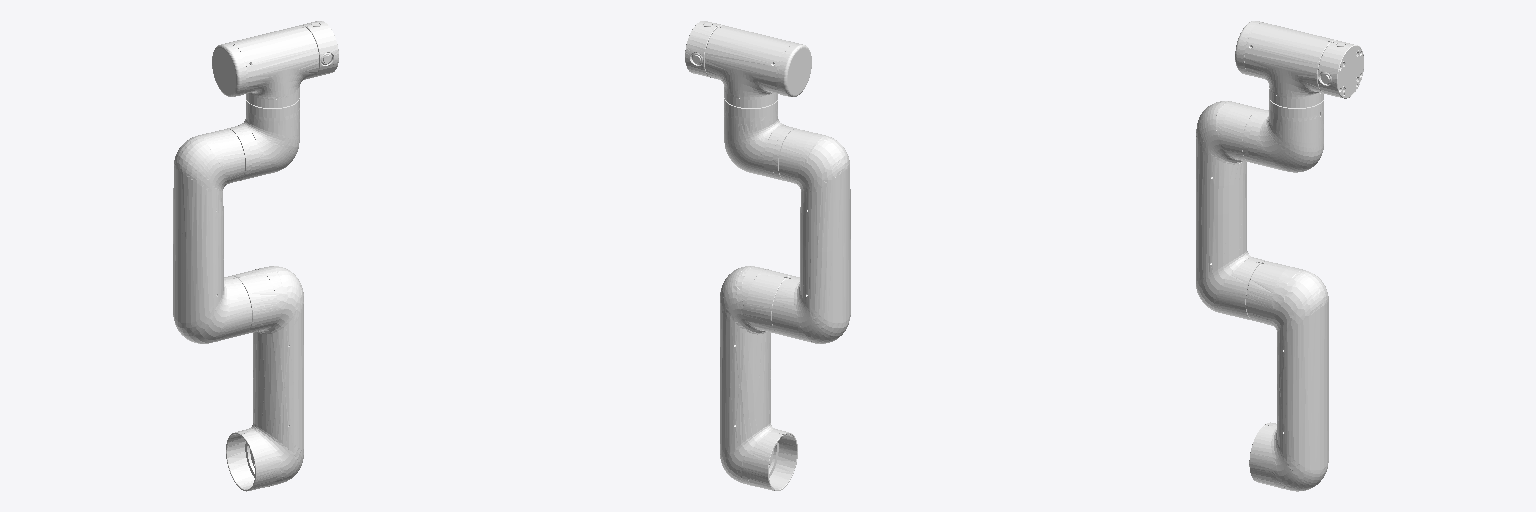
robot.urdf — Pro 450 V2.0:
<?xml version="2.0" encoding="utf-8"?>
<!-- This URDF was automatically created by SolidWorks to URDF Exporter! Originally created by Stephen Brawner (brawner@gmail.com) 
     Commit Version: 1.6.0-4-g7f85cfe  Build Version: 1.6.7995.38578
     For more information, please see http://wiki.ros.org/sw_urdf_exporter -->
<robot
  name="Pro 450 V2.0">
  <link
    name="base">
    <inertial>
      <origin
        xyz="-0.0036904 0.097443 0.055724"
        rpy="0 0 0" />
      <mass
        value="2.0564" />
      <inertia
        ixx="0.0028485"
        ixy="-1.3454E-06"
        ixz="4.5385E-07"
        iyy="0.0031143"
        iyz="0.00022756"
        izz="0.0032565" />
    </inertial>
    <visual>
      <origin
        xyz="0 0 0"
        rpy="0 0 0" />
      <geometry>
        <mesh
          filename="package://mycobot_description/urdf/mycobot_pro_450/new_structure/meshes/base.STL" />
      </geometry>
      <material
        name="">
        <color
          rgba="1 1 1 1" />
      </material>
    </visual>
    <collision>
      <origin
        xyz="0 0 0"
        rpy="0 0 0" />
      <geometry>
        <mesh
          filename="package://mycobot_description/urdf/mycobot_pro_450/new_structure/meshes/base.STL" />
      </geometry>
    </collision>
  </link>
  <link
    name="Link1">
    <inertial>
      <origin
        xyz="0.021848 0.00027981 0.03412"
        rpy="0 0 0" />
      <mass
        value="0.5339" />
      <inertia
        ixx="0.00034289"
        ixy="2.2285E-07"
        ixz="-1.4748E-05"
        iyy="0.00032952"
        iyz="7.495E-07"
        izz="0.00031829" />
    </inertial>
    <visual>
      <origin
        xyz="0 0 0"
        rpy="0 0 0" />
      <geometry>
        <mesh
          filename="package://mycobot_description/urdf/mycobot_pro_450/new_structure/meshes/Link1.STL" />
      </geometry>
      <material
        name="">
        <color
          rgba="1 1 1 1" />
      </material>
    </visual>
    <collision>
      <origin
        xyz="0 0 0"
        rpy="0 0 0" />
      <geometry>
        <mesh
          filename="package://mycobot_description/urdf/mycobot_pro_450/new_structure/meshes/Link1.STL" />
      </geometry>
    </collision>
  </link>
  <joint
    name="joint1"
    type="revolute">
    <origin
      xyz="-0.0036527 0.10961 0.16511"
      rpy="0 0 0" />
    <parent
      link="base" />
    <child
      link="Link1" />
    <axis
      xyz="0 0 1" />
    <limit
      lower="-2.8274"
      upper="2.8274"
      effort="10"
      velocity="3.7909" />
  </joint>
  <link
    name="Link2">
    <inertial>
      <origin
        xyz="4.5135E-05 -0.0047979 0.1192"
        rpy="0 0 0" />
      <mass
        value="0.59984" />
      <inertia
        ixx="0.0021268"
        ixy="2.8075E-08"
        ixz="6.0014E-07"
        iyy="0.0022006"
        iyz="-6.3635E-05"
        izz="0.00029236" />
    </inertial>
    <visual>
      <origin
        xyz="0 0 0"
        rpy="0 0 0" />
      <geometry>
        <mesh
          filename="package://mycobot_description/urdf/mycobot_pro_450/new_structure/meshes/Link2.STL" />
      </geometry>
      <material
        name="">
        <color
          rgba="1 1 1 1" />
      </material>
    </visual>
    <collision>
      <origin
        xyz="0 0 0"
        rpy="0 0 0" />
      <geometry>
        <mesh
          filename="package://mycobot_description/urdf/mycobot_pro_450/new_structure/meshes/Link2.STL" />
      </geometry>
    </collision>
  </link>
  <joint
    name="joint2"
    type="revolute">
    <origin
      xyz="0.072556 -0.00013563 0.0376"
      rpy="0 0 1.5708" />
    <parent
      link="Link1" />
    <child
      link="Link2" />
    <axis
      xyz="0 -1 0" />
    <limit
      lower="-2.1817"
      upper="2.1817"
      effort="10"
      velocity="3.7909" />
  </joint>
  <link
    name="Link3">
    <inertial>
      <origin
        xyz="-8.7658E-05 0.018508 0.12639"
        rpy="0 0 0" />
      <mass
        value="0.67777" />
      <inertia
        ixx="0.0017114"
        ixy="1.4988E-07"
        ixz="1.617E-07"
        iyy="0.0017559"
        iyz="-2.7383E-05"
        izz="0.00025355" />
    </inertial>
    <visual>
      <origin
        xyz="0 0 0"
        rpy="0 0 0" />
      <geometry>
        <mesh
          filename="package://mycobot_description/urdf/mycobot_pro_450/new_structure/meshes/Link3.STL" />
      </geometry>
      <material
        name="">
        <color
          rgba="1 1 1 1" />
      </material>
    </visual>
    <collision>
      <origin
        xyz="0 0 0"
        rpy="0 0 0" />
      <geometry>
        <mesh
          filename="package://mycobot_description/urdf/mycobot_pro_450/new_structure/meshes/Link3.STL" />
      </geometry>
    </collision>
  </link>
  <joint
    name="joint3"
    type="revolute">
    <origin
      xyz="0 0.0391 0.18"
      rpy="0 0 0" />
    <parent
      link="Link2" />
    <child
      link="Link3" />
    <axis
      xyz="0 -1 0" />
    <limit
      lower="-2.6878"
      upper="2.6878"
      effort="8"
      velocity="3.11" />
  </joint>
  <link
    name="Link4">
    <inertial>
      <origin
        xyz="5.5308E-06 -0.019977 0.024336"
        rpy="0 0 0" />
      <mass
        value="0.55433" />
      <inertia
        ixx="0.00024787"
        ixy="-5.8392E-07"
        ixz="3.4795E-07"
        iyy="0.00024423"
        iyz="1.5884E-05"
        izz="0.000191" />
    </inertial>
    <visual>
      <origin
        xyz="0 0 0"
        rpy="0 0 0" />
      <geometry>
        <mesh
          filename="package://mycobot_description/urdf/mycobot_pro_450/new_structure/meshes/Link4.STL" />
      </geometry>
      <material
        name="">
        <color
          rgba="1 1 1 1" />
      </material>
    </visual>
    <collision>
      <origin
        xyz="0 0 0"
        rpy="0 0 0" />
      <geometry>
        <mesh
          filename="package://mycobot_description/urdf/mycobot_pro_450/new_structure/meshes/Link4.STL" />
      </geometry>
    </collision>
  </link>
  <joint
    name="joint4"
    type="revolute">
    <origin
      xyz="0 -0.027001 0.173"
      rpy="0 0 0" />
    <parent
      link="Link3" />
    <child
      link="Link4" />
    <axis
      xyz="0 -1 0" />
    <limit
      lower="-2.8274"
      upper="2.8274"
      effort="2"
      velocity="3.11" />
  </joint>
  <link
    name="Link5">
    <inertial>
      <origin
        xyz="-0.0082575 -4.4224E-05 0.023446"
        rpy="0 0 0" />
      <mass
        value="0.54975" />
      <inertia
        ixx="0.00019151"
        ixy="-2.7503E-07"
        ixz="2.3435E-06"
        iyy="0.00022691"
        iyz="1.3389E-07"
        izz="0.00023006" />
    </inertial>
    <visual>
      <origin
        xyz="0 0 0"
        rpy="0 0 0" />
      <geometry>
        <mesh
          filename="package://mycobot_description/urdf/mycobot_pro_450/new_structure/meshes/Link5.STL" />
      </geometry>
      <material
        name="">
        <color
          rgba="1 1 1 1" />
      </material>
    </visual>
    <collision>
      <origin
        xyz="0 0 0"
        rpy="0 0 0" />
      <geometry>
        <mesh
          filename="package://mycobot_description/urdf/mycobot_pro_450/new_structure/meshes/Link5.STL" />
      </geometry>
    </collision>
  </link>
  <joint
    name="joint5"
    type="revolute">
    <origin
      xyz="-1.3818E-05 -0.025698 0.070501"
      rpy="0 0 -1.5708" />
    <parent
      link="Link4" />
    <child
      link="Link5" />
    <axis
      xyz="0 0 1" />
    <limit
      lower="-2.8274"
      upper="2.8274"
      effort="2"
      velocity="3.11" />
  </joint>
  <link
    name="Link6">
    <inertial>
      <origin
        xyz="0.018433 0.000554 0.00086645"
        rpy="0 0 0" />
      <mass
        value="0.10712" />
      <inertia
        ixx="4.3725E-05"
        ixy="-4.7899E-09"
        ixz="1.3552E-07"
        iyy="2.6538E-05"
        iyz="3.2282E-09"
        izz="2.7187E-05" />
    </inertial>
    <visual>
      <origin
        xyz="0 0 0"
        rpy="0 0 0" />
      <geometry>
        <mesh
          filename="package://mycobot_description/urdf/mycobot_pro_450/new_structure/meshes/Link6.STL" />
      </geometry>
      <material
        name="">
        <color
          rgba="1 1 1 1" />
      </material>
    </visual>
    <collision>
      <origin
        xyz="0 0 0"
        rpy="0 0 0" />
      <geometry>
        <mesh
          filename="package://mycobot_description/urdf/mycobot_pro_450/new_structure/meshes/Link6.STL" />
      </geometry>
    </collision>
  </link>
  <joint
    name="joint6"
    type="revolute">
    <origin
      xyz="0.031115 -0.00055633 0.026584"
      rpy="0 0 0" />
    <parent
      link="Link5" />
    <child
      link="Link6" />
    <axis
      xyz="1 0 0" />
    <limit
      lower="-2.8798"
      upper="2.8798"
      effort="2"
      velocity="3.11" />
  </joint>
</robot>

--- Render facts (derived) ---
3 views of the same robot in one strip: view 1: azimuth 30°, elevation 25°; view 2: azimuth 150°, elevation 25°; view 3: azimuth 330°, elevation 25° (orthographic).
Robot: Pro 450 V2.0 — 7 links, 6 joints (6 revolute); root link base; default pose: every joint at zero.
Visible links, largest first — view 1: Link3, Link2, Link5, Link4, Link6; view 2: Link3, Link2, Link5, Link4, Link6; view 3: Link2, Link3, Link5, Link4, Link6.
Boxes of the visible links, left/top/right/bottom form: Link3: left=173, top=129, right=251, bottom=343; Link2: left=226, top=266, right=303, bottom=491; Link5: left=212, top=25, right=318, bottom=107; Link4: left=227, top=98, right=299, bottom=180; Link6: left=303, top=21, right=338, bottom=77; Link3: left=772, top=129, right=850, bottom=343; Link2: left=720, top=266, right=797, bottom=490; Link5: left=705, top=25, right=811, bottom=107; Link4: left=724, top=98, right=796, bottom=180; Link6: left=685, top=21, right=721, bottom=77; Link2: left=1246, top=261, right=1328, bottom=491; Link3: left=1196, top=101, right=1264, bottom=320; Link5: left=1235, top=21, right=1335, bottom=107; Link4: left=1242, top=98, right=1323, bottom=172; Link6: left=1318, top=40, right=1363, bottom=98.
Size in the robot's own frame: 0.177 by 0.063 by 0.5102 metres.
Meshes: 7 distinct files referenced, 5 mesh visuals loaded (5 binary STL); not drawn: 2 (reference not matched to a file when rendering).
